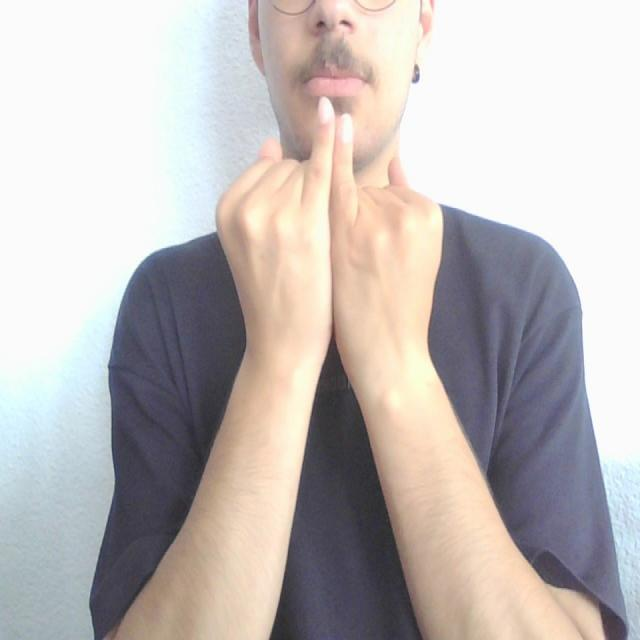Kardes: (214, 92, 446, 370)
